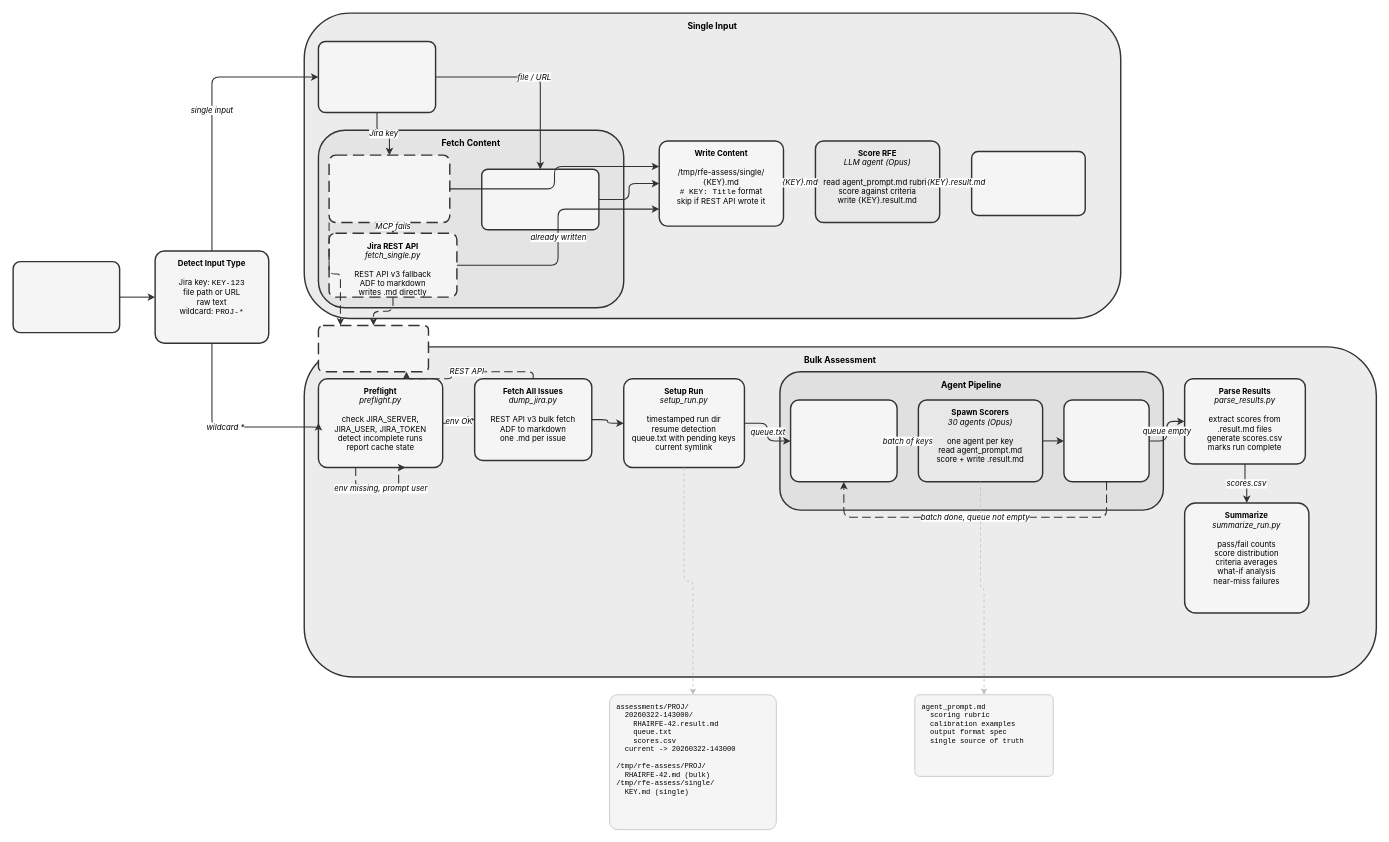
This 1389x842 diagram has some shape labels left out. The centre of each missing label's shape, as x and y in pixels:
"/assess-rfe Jira key, file, URL, text or wildcard for bulk" belongs at [66,297].
"Jira MCP getJiraIssue extract summary + description" belongs at [389,188].
"Jira Server redhat.atlassian.net REST API v3" belongs at [373,348].
"Poll Progress check_progress.py poll every 30s completed vs total 5-min timeout" belongs at [1106,440].
"Pop Batch next_batch.py pop up to 30 keys from queue.txt track remaining" belongs at [843,440].
"Prep Single prep_single.py clean stale .md / .result.md ensure output dir exists" belongs at [376,76].
"Present Result read {KEY}.result.md wrap with header display to user" belongs at [1028,183].
"Read File / URL read file contents or fetch URL content" belongs at [540,199].
